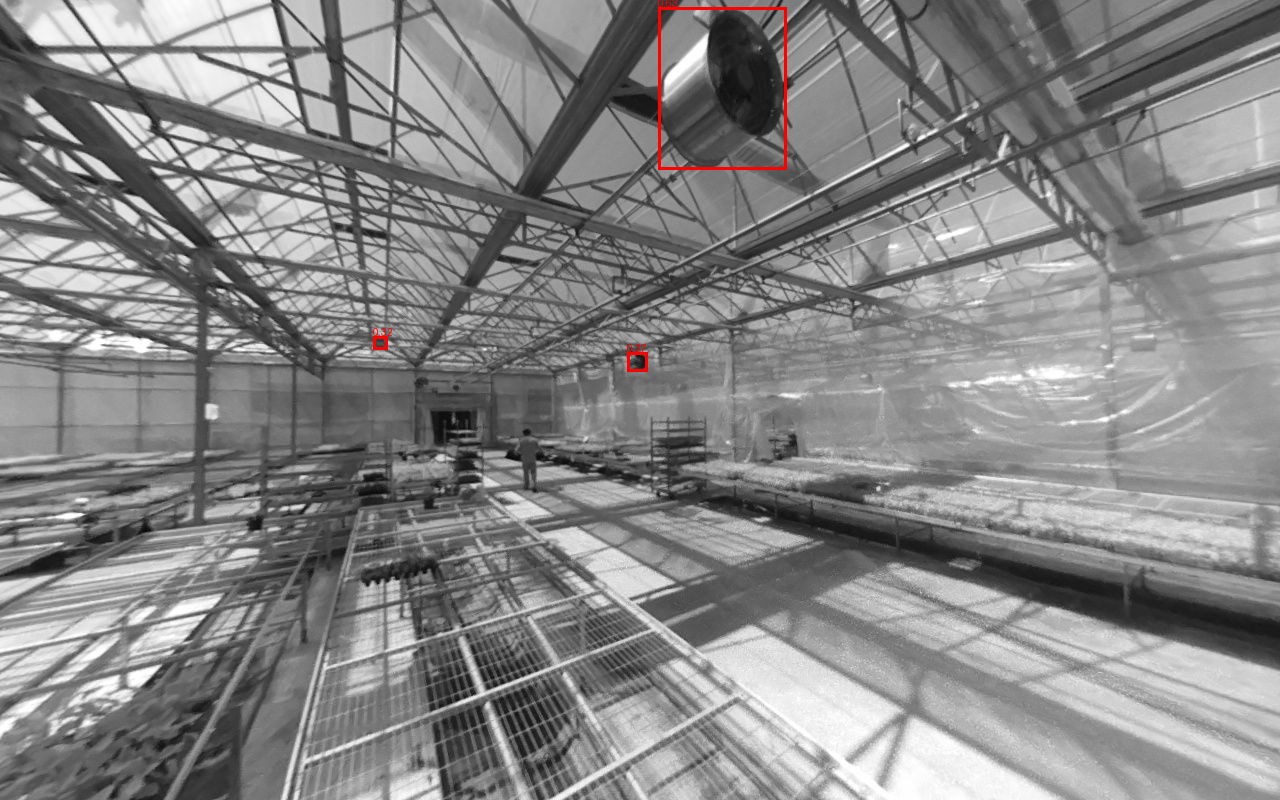fan: (650, 10, 788, 170), (625, 345, 647, 367)
